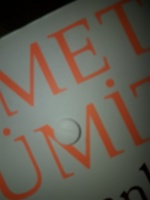Arveles: (53, 118, 82, 145)
